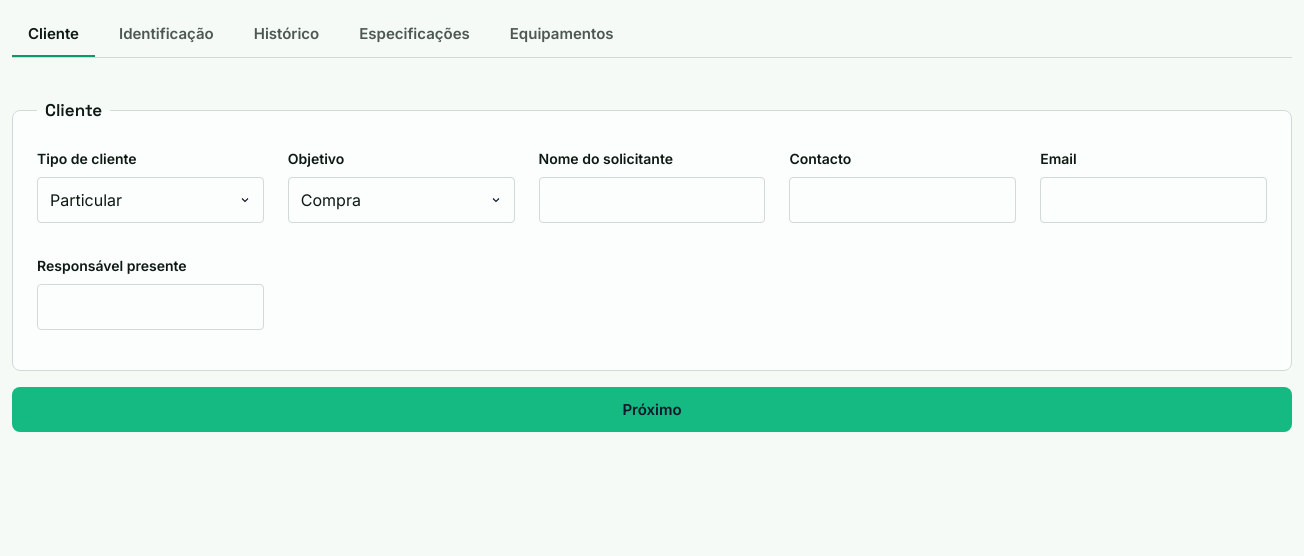
it: NewInspectionForm › locks objetivo to venda when tipoCliente is stand
expect the dropdown labelled "Objetivo" is enabled: met, box [288,176,515,222]
Select "Stand" in the dropdown labelled "Tipo de cliente" at (150, 200), box [37,176,264,222]
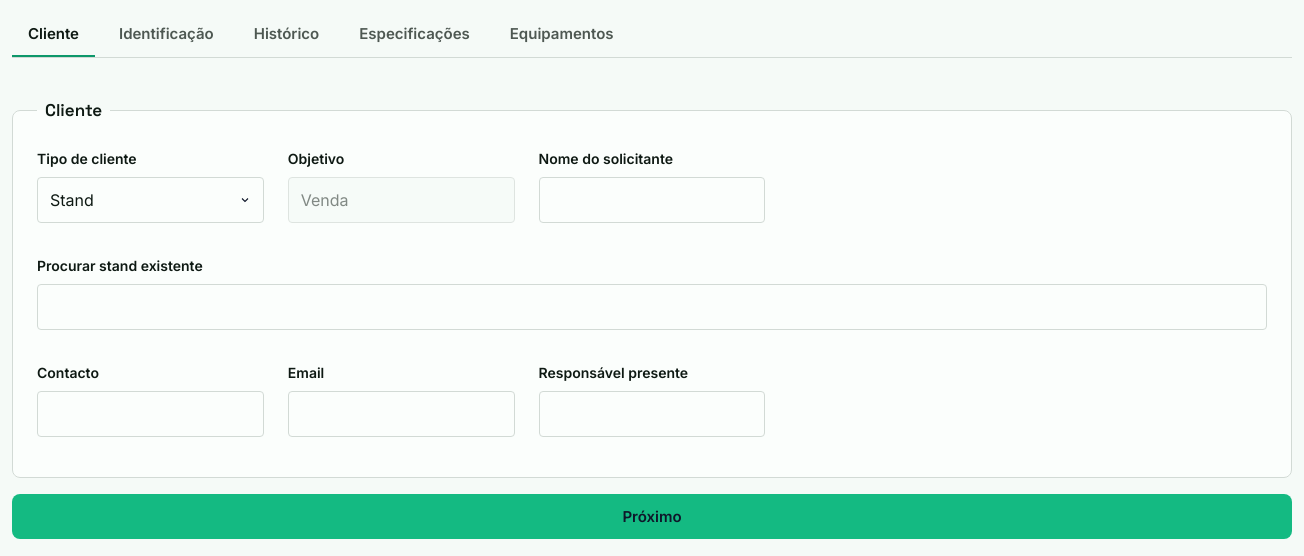
expect the dropdown labelled "Objetivo" shows "Venda": met, box [288,176,515,222]
expect the dropdown labelled "Objetivo" is disabled: met, box [288,176,515,222]
